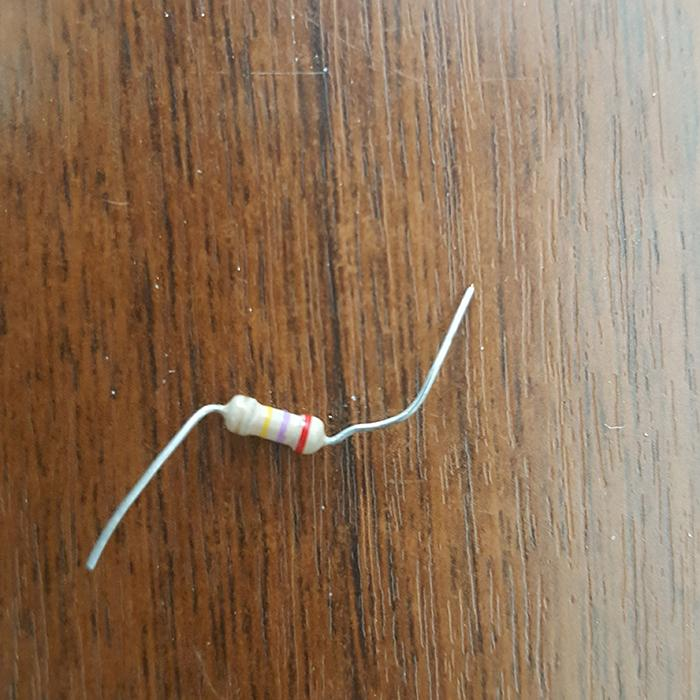resistor: (220, 394, 327, 454)
